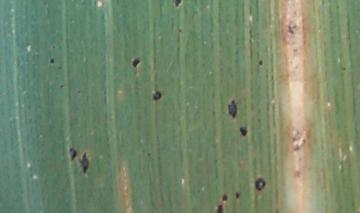tarspot: (77, 151, 90, 174), (227, 98, 238, 120), (254, 177, 266, 192), (287, 19, 297, 35), (237, 124, 249, 137), (68, 147, 78, 162), (151, 90, 162, 101), (131, 57, 141, 69), (215, 203, 225, 213), (173, 1, 183, 9), (48, 56, 56, 65), (256, 59, 264, 67), (55, 64, 64, 71), (220, 193, 227, 202), (234, 190, 240, 200), (58, 83, 66, 90), (176, 27, 183, 35), (145, 151, 152, 159), (75, 89, 82, 95), (341, 65, 347, 72), (50, 44, 56, 50)
